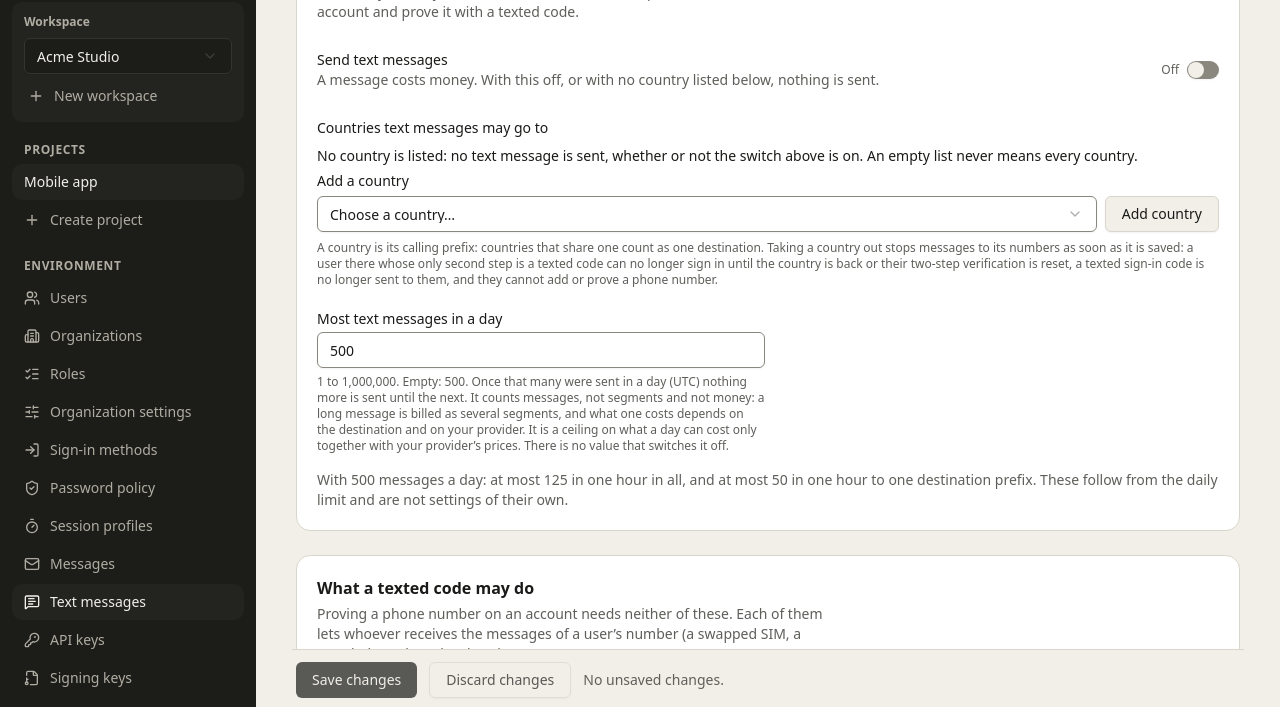
what asks first is the contract’s › a raised daily limit: says what it can cost, saves nothing until confirmed, and is sent once
The width and height of the screenshot is (1280, 707).
(page scrolled)
Step 1. Replace the text in the number field labelled "Most text messages in a day" with "5000" → (541, 350), box [317,332,765,368]
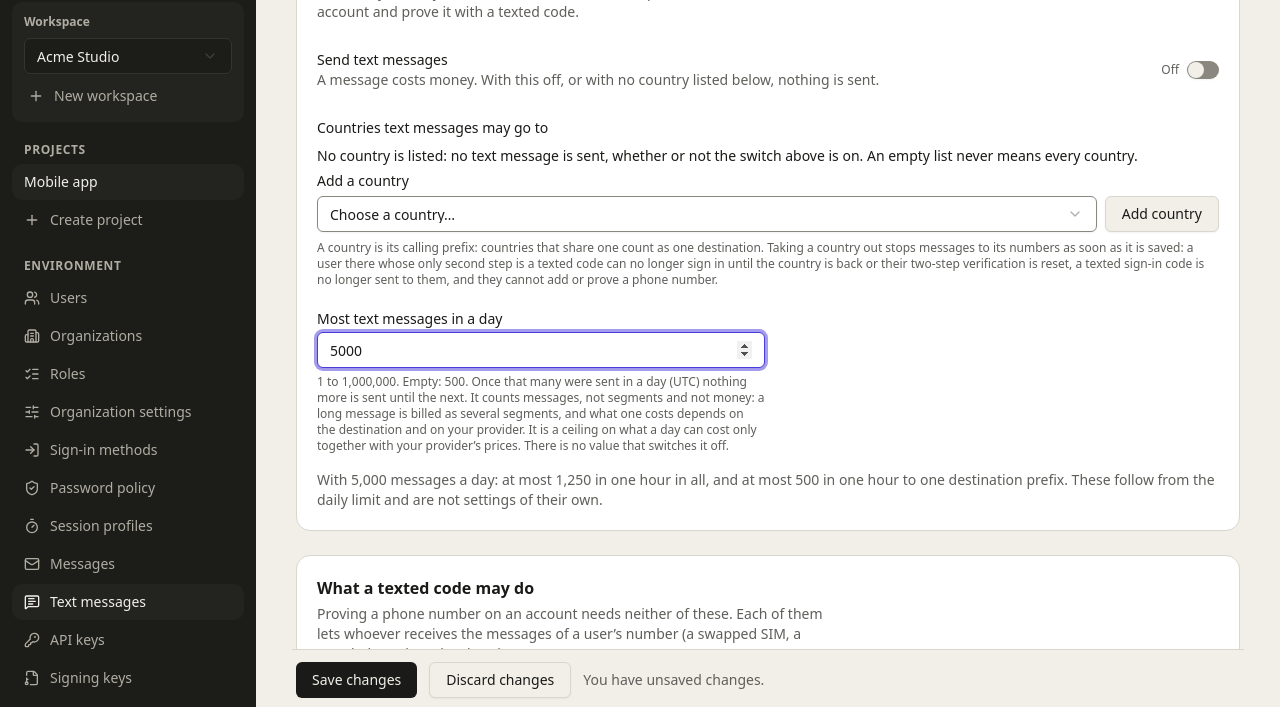
Step 2. Click the button "Save changes" → (357, 680), box [296,662,417,698]
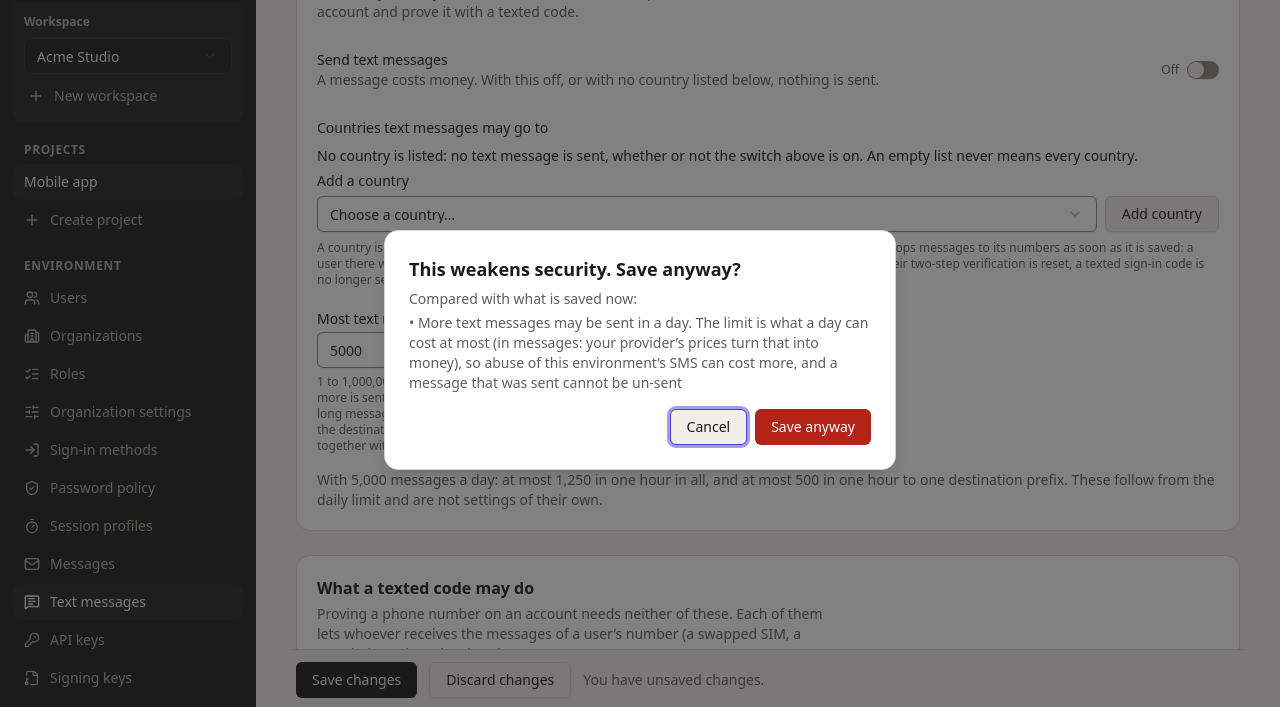
Expected: the dialog shows "This weakens security. Save anyway?", [409,257,741,281]
Expected: the dialog shows "More text messages may be sent in a day", [409,313,868,392]
Expected: the dialog shows "what a day can cost at most", [409,313,868,392]
Step 3. Click the button "Cancel" → (708, 427), box [670,409,747,445]
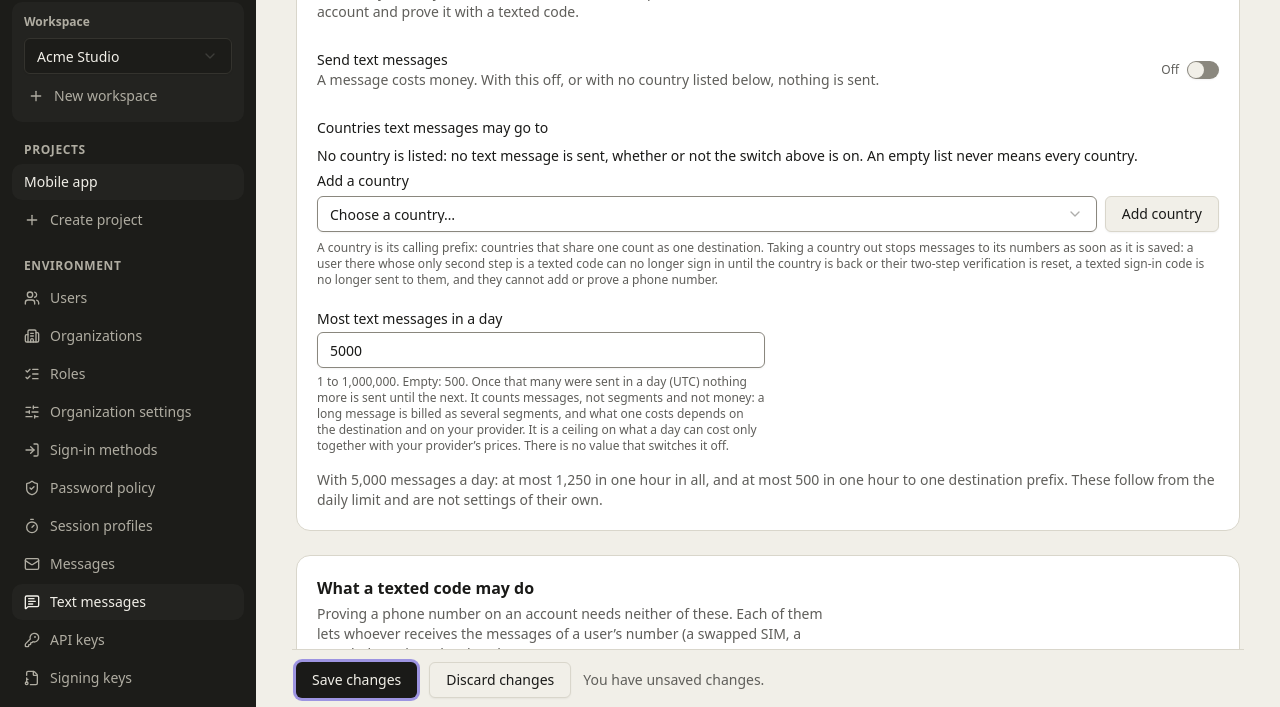
Step 4. Click the button "Save changes" → (357, 680), box [296,662,417,698]
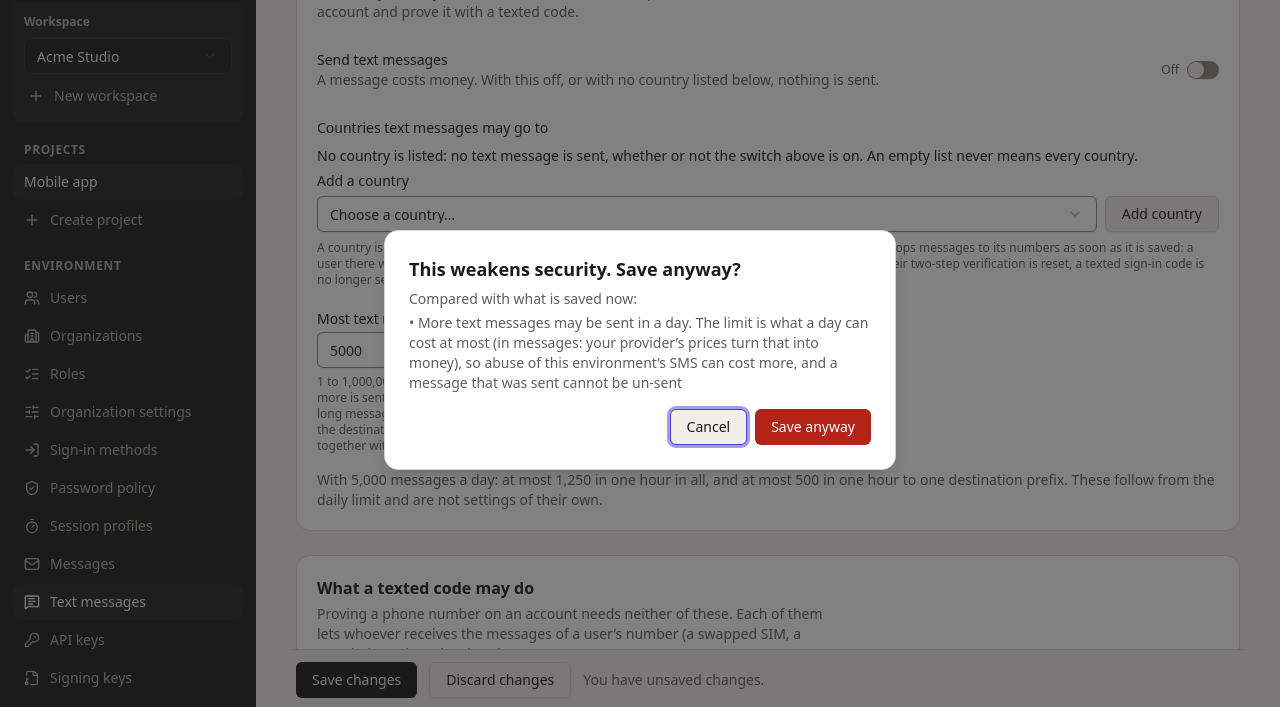
Step 5. Click the button "Save anyway" → (813, 427), box [755,409,871,445]
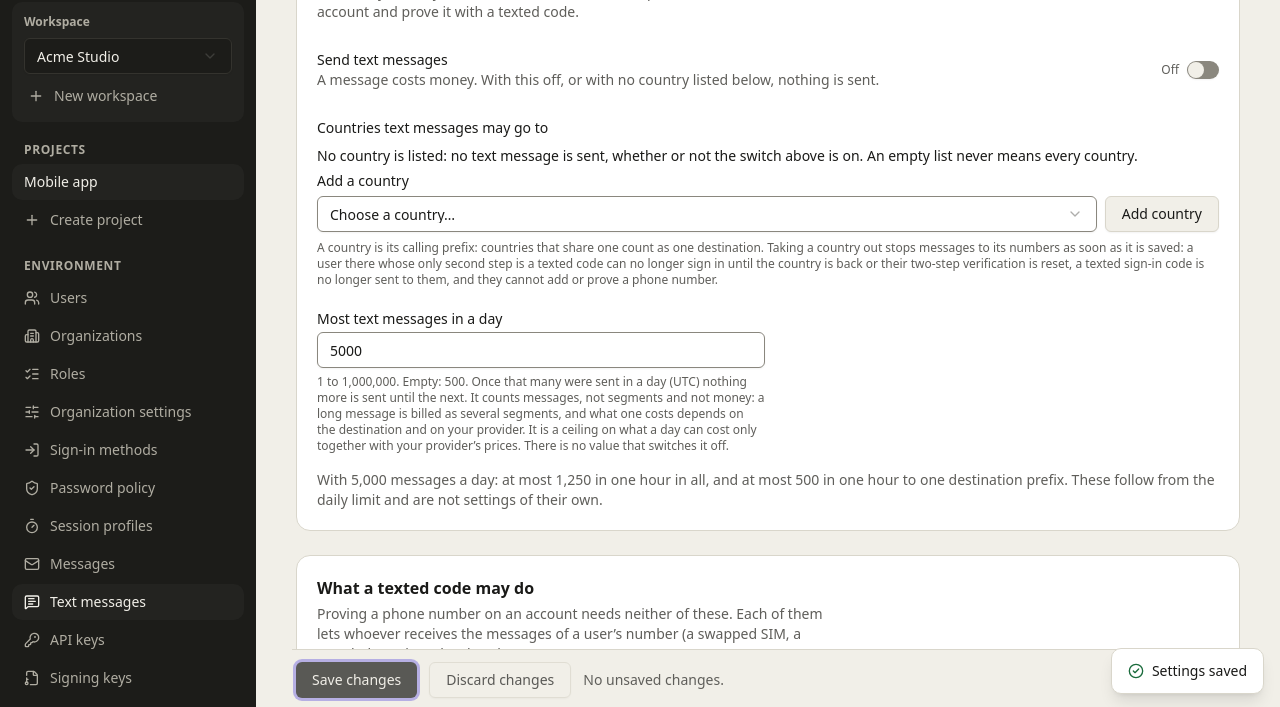
Expected: the list item "Settings saved" is shown, [1111,648,1264,694]
